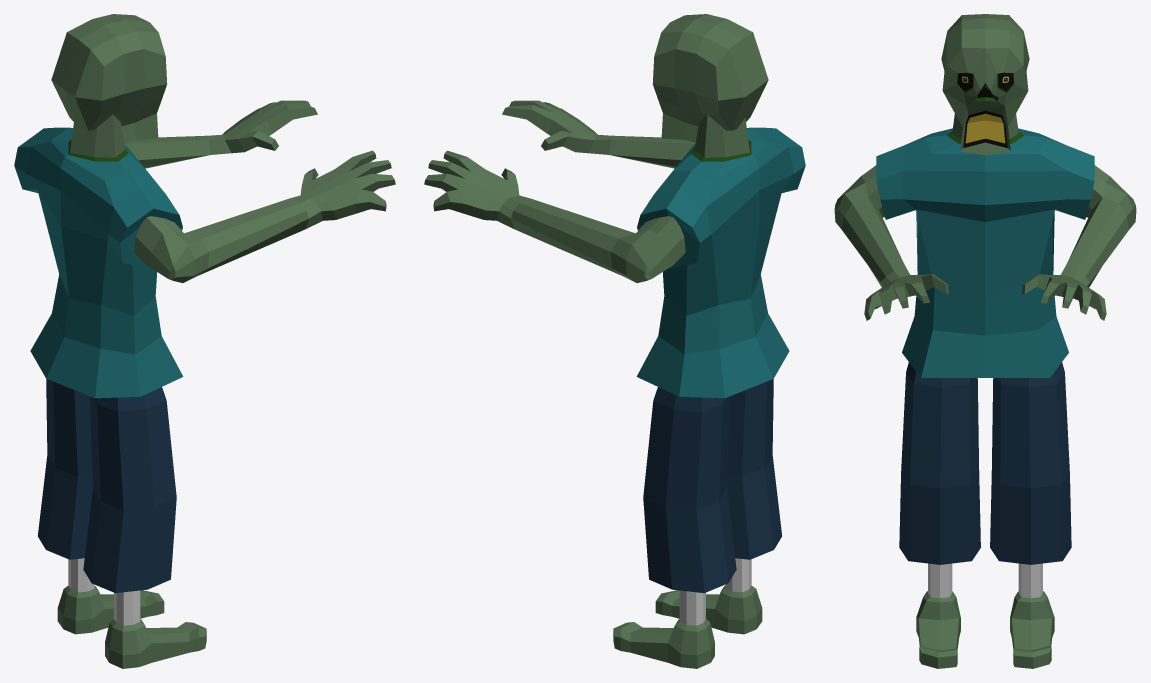
The model's file is Zombie Body001.fbx.
3 views of the same model, side by side, from view 1: azimuth 30°, elevation 25°; view 2: azimuth 150°, elevation 25°; view 3: azimuth 270°, elevation 25° (orthographic).
Parts seen in each view (by area): view 1: Cube.001, Cube.004, Cube.003, Cube.002, Cube.005; view 2: Cube.001, Cube.002, Cube.005, Cube.004, Cube.003; view 3: Cube.001, Cube.004, Cube.002, Cube.005, Cube.003.
Part boxes in pixels (x1=…): Cube.001: x1=14, y1=14, x2=183, y2=398; Cube.004: x1=83, y1=387, x2=206, y2=668; Cube.003: x1=134, y1=150, x2=395, y2=282; Cube.002: x1=38, y1=379, x2=164, y2=634; Cube.005: x1=124, y1=100, x2=317, y2=168; Cube.001: x1=636, y1=14, x2=805, y2=398; Cube.002: x1=613, y1=387, x2=736, y2=668; Cube.005: x1=424, y1=150, x2=685, y2=282; Cube.004: x1=655, y1=379, x2=781, y2=634; Cube.003: x1=502, y1=100, x2=695, y2=168; Cube.001: x1=876, y1=14, x2=1094, y2=377; Cube.004: x1=899, y1=362, x2=980, y2=668; Cube.002: x1=990, y1=362, x2=1071, y2=668; Cube.005: x1=1022, y1=165, x2=1136, y2=320; Cube.003: x1=834, y1=165, x2=948, y2=320.
Bounding box in the file's own units: 736 × 1427 × 637.
